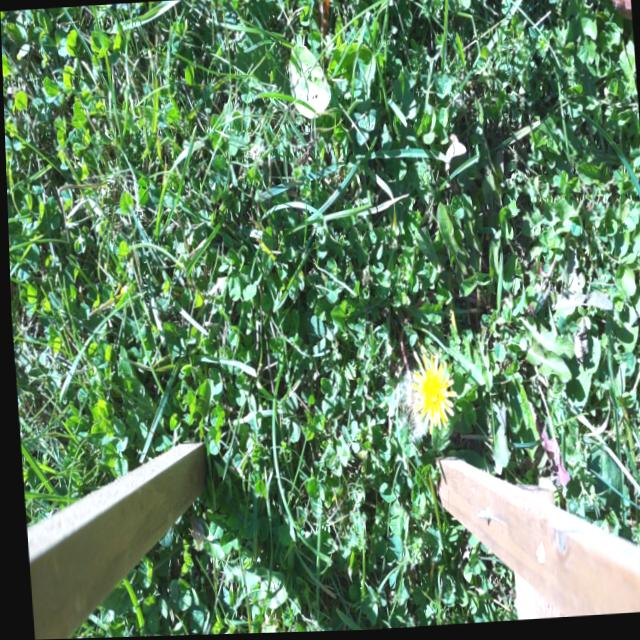base: (394, 307, 416, 334)
flower: (408, 352, 452, 429)
